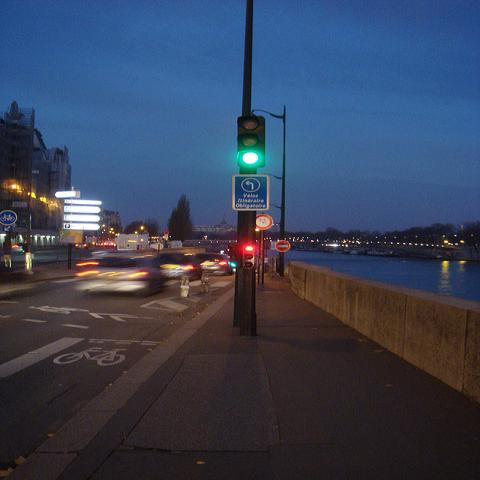car: (77, 253, 165, 295), (154, 252, 204, 280), (195, 251, 233, 276)
